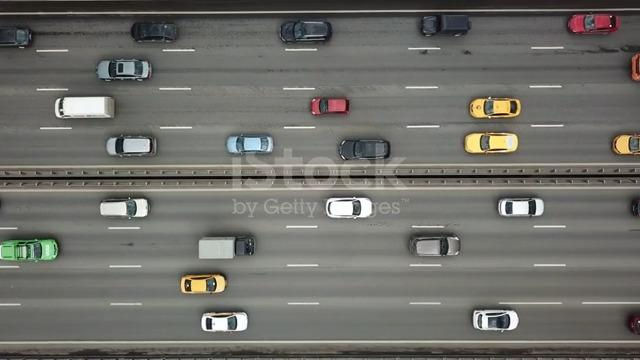Cars: (1, 238, 59, 262), (96, 58, 153, 82), (279, 20, 333, 44), (464, 132, 519, 155), (106, 134, 157, 158), (469, 96, 522, 119), (568, 13, 620, 35), (339, 139, 391, 161), (131, 21, 179, 43), (325, 197, 373, 219), (226, 134, 274, 155), (201, 311, 248, 332), (181, 273, 227, 294), (311, 97, 350, 116), (1, 26, 33, 49), (612, 133, 640, 156)
